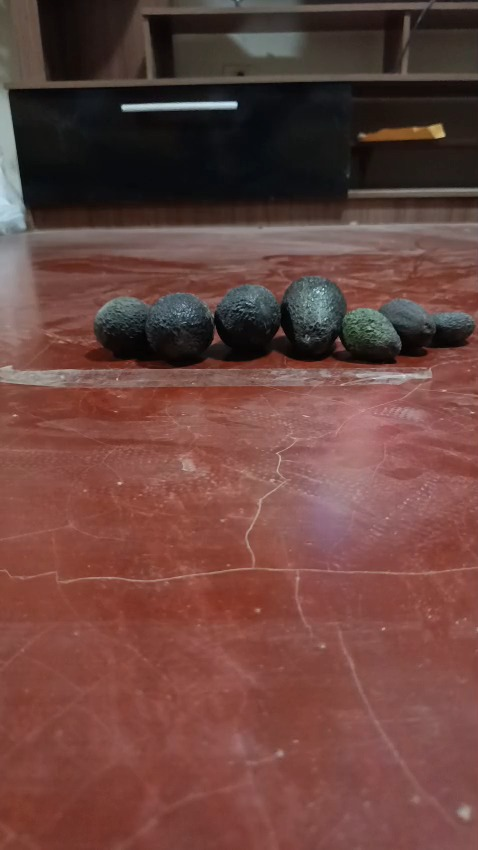Primera: (280, 275, 347, 358), (145, 291, 214, 363), (214, 283, 281, 354), (92, 295, 151, 358)
Segunda: (340, 307, 401, 362), (377, 297, 435, 354)
Tercera: (428, 311, 474, 347)
